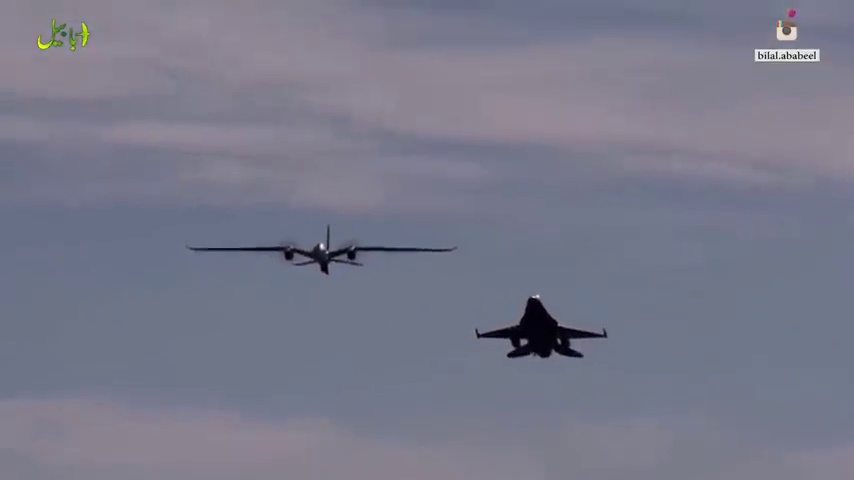military drone: (185, 224, 458, 274), (475, 294, 607, 358)
